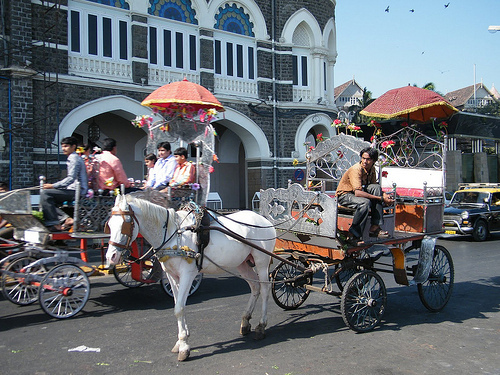horse: (106, 190, 279, 362)
